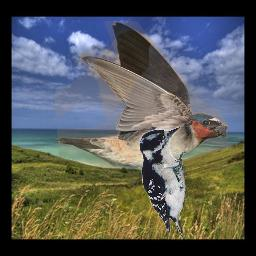Swallow: (55, 21, 228, 179)
Woodpecker: (139, 127, 189, 241)
